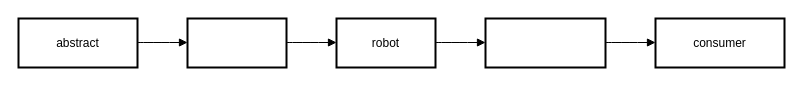
Some shapes in this 802 by 85 pixel diagram are drawn without their labels. Here are the shapes that lost their labels. From the top down, the box of each, then its label:
(186, 17, 287, 68): kafka
(484, 17, 606, 68): message
